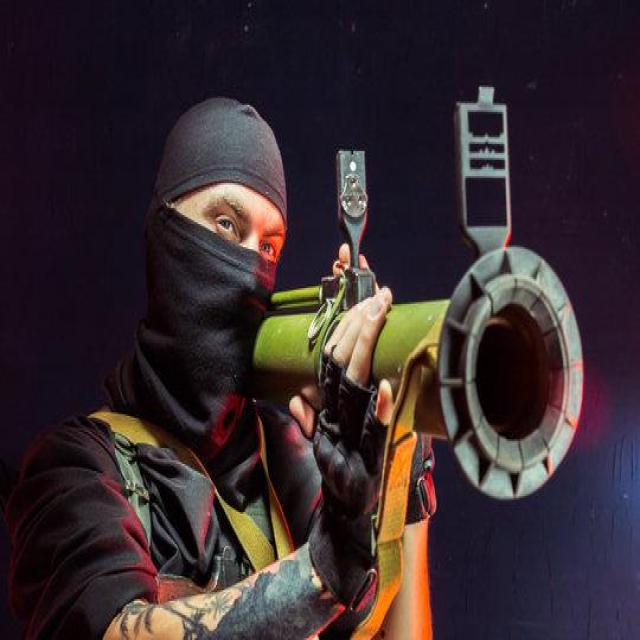bazooka: (247, 67, 587, 514)
